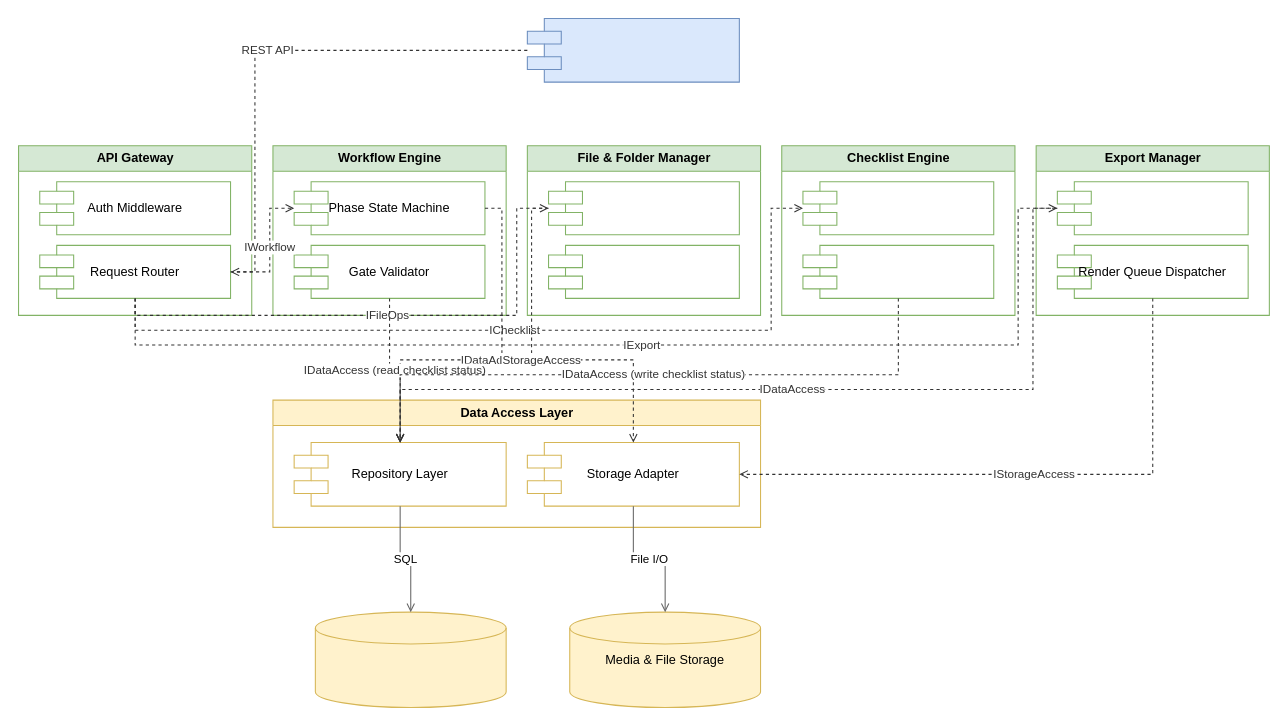
Some shapes in this 1288 by 726 pixel diagram are drawn without their labels. The centre of each missing label's shape, as x and y in pixels:
"Checklist Template Service" goes at (898,208).
"Client Application" goes at (632,49).
"Database" goes at (410,659).
"Folder Template Generator" goes at (643,208).
"Naming Convention Validator" goes at (643,271).
"Preset Resolver" goes at (1152,208).
"QC Rule Evaluator" goes at (898,271).
